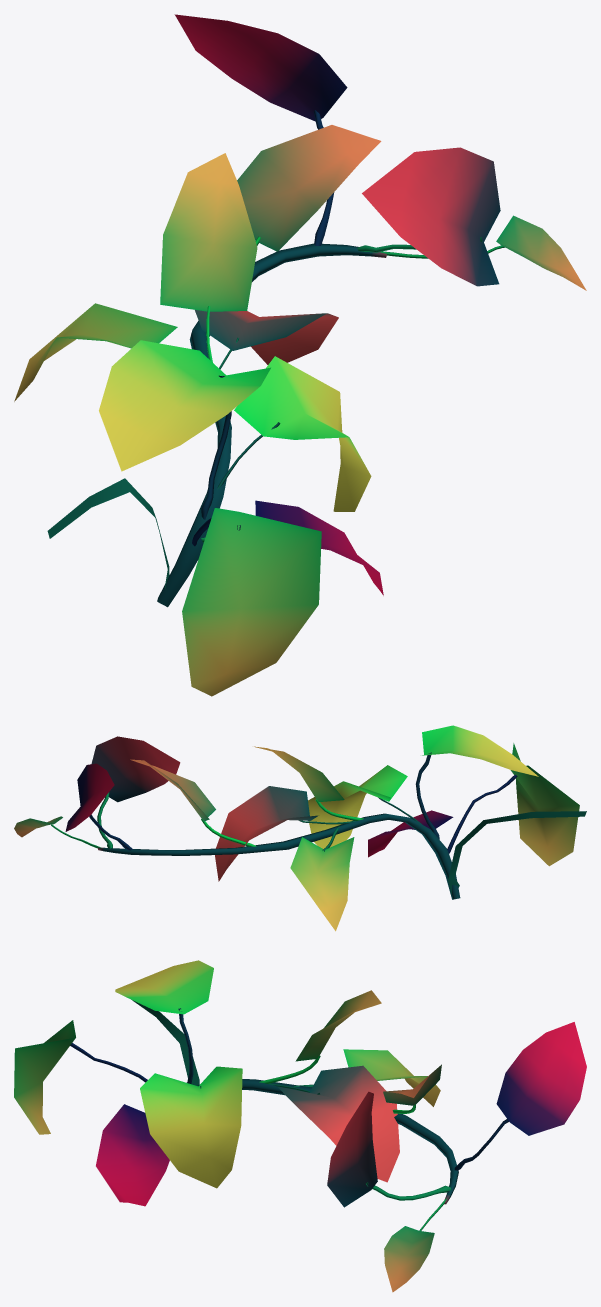
Rendered from Money_Plant_uchmfdyia_Low_uchmfdyia_VarE_LOD0.fbx.
3 renders of one model, top to bottom at view 1: azimuth 30°, elevation 25°; view 2: azimuth 150°, elevation 25°; view 3: azimuth 270°, elevation 25°, orthographic. The views are drawn at different scales.
Parts seen in each view (by area): view 1: _29e6_VarE_LOD1; view 2: _29e6_VarE_LOD1; view 3: _29e6_VarE_LOD1.
Part boxes in pixels (bbox=[...]): _29e6_VarE_LOD1: bbox=[14, 14, 586, 696]; _29e6_VarE_LOD1: bbox=[14, 725, 586, 931]; _29e6_VarE_LOD1: bbox=[14, 960, 586, 1292].
Size of the model in its own units: 24.39 by 10.37 by 23.65.
